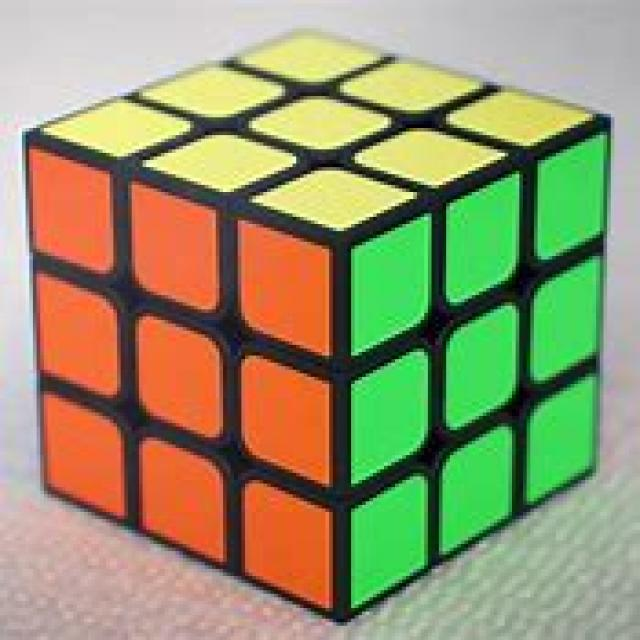cube: (20, 33, 612, 628)
